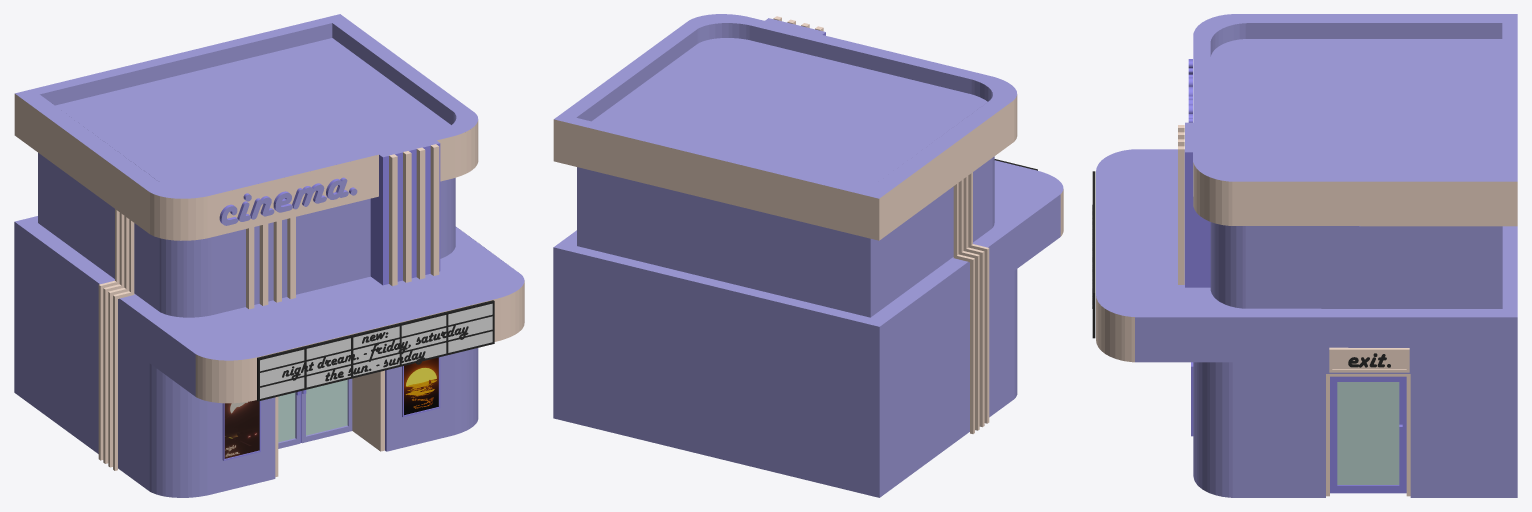
Rendered from cinema.glb.
3 views of the same model, side by side, from view 1: azimuth 30°, elevation 25°; view 2: azimuth 150°, elevation 25°; view 3: azimuth 270°, elevation 25° (orthographic). The views are drawn at different scales.
Parts seen in each view (by area): view 1: body; view 2: body; view 3: body.
Boxes of the visible parts, x1,y1,x2,y2 form: body: (14,14,524,497); body: (553,14,1063,497); body: (1092,14,1517,497).
Size of the model in its own units: 6.3 by 5.4 by 6.58.
Materials: 7 (1 with a texture image).
